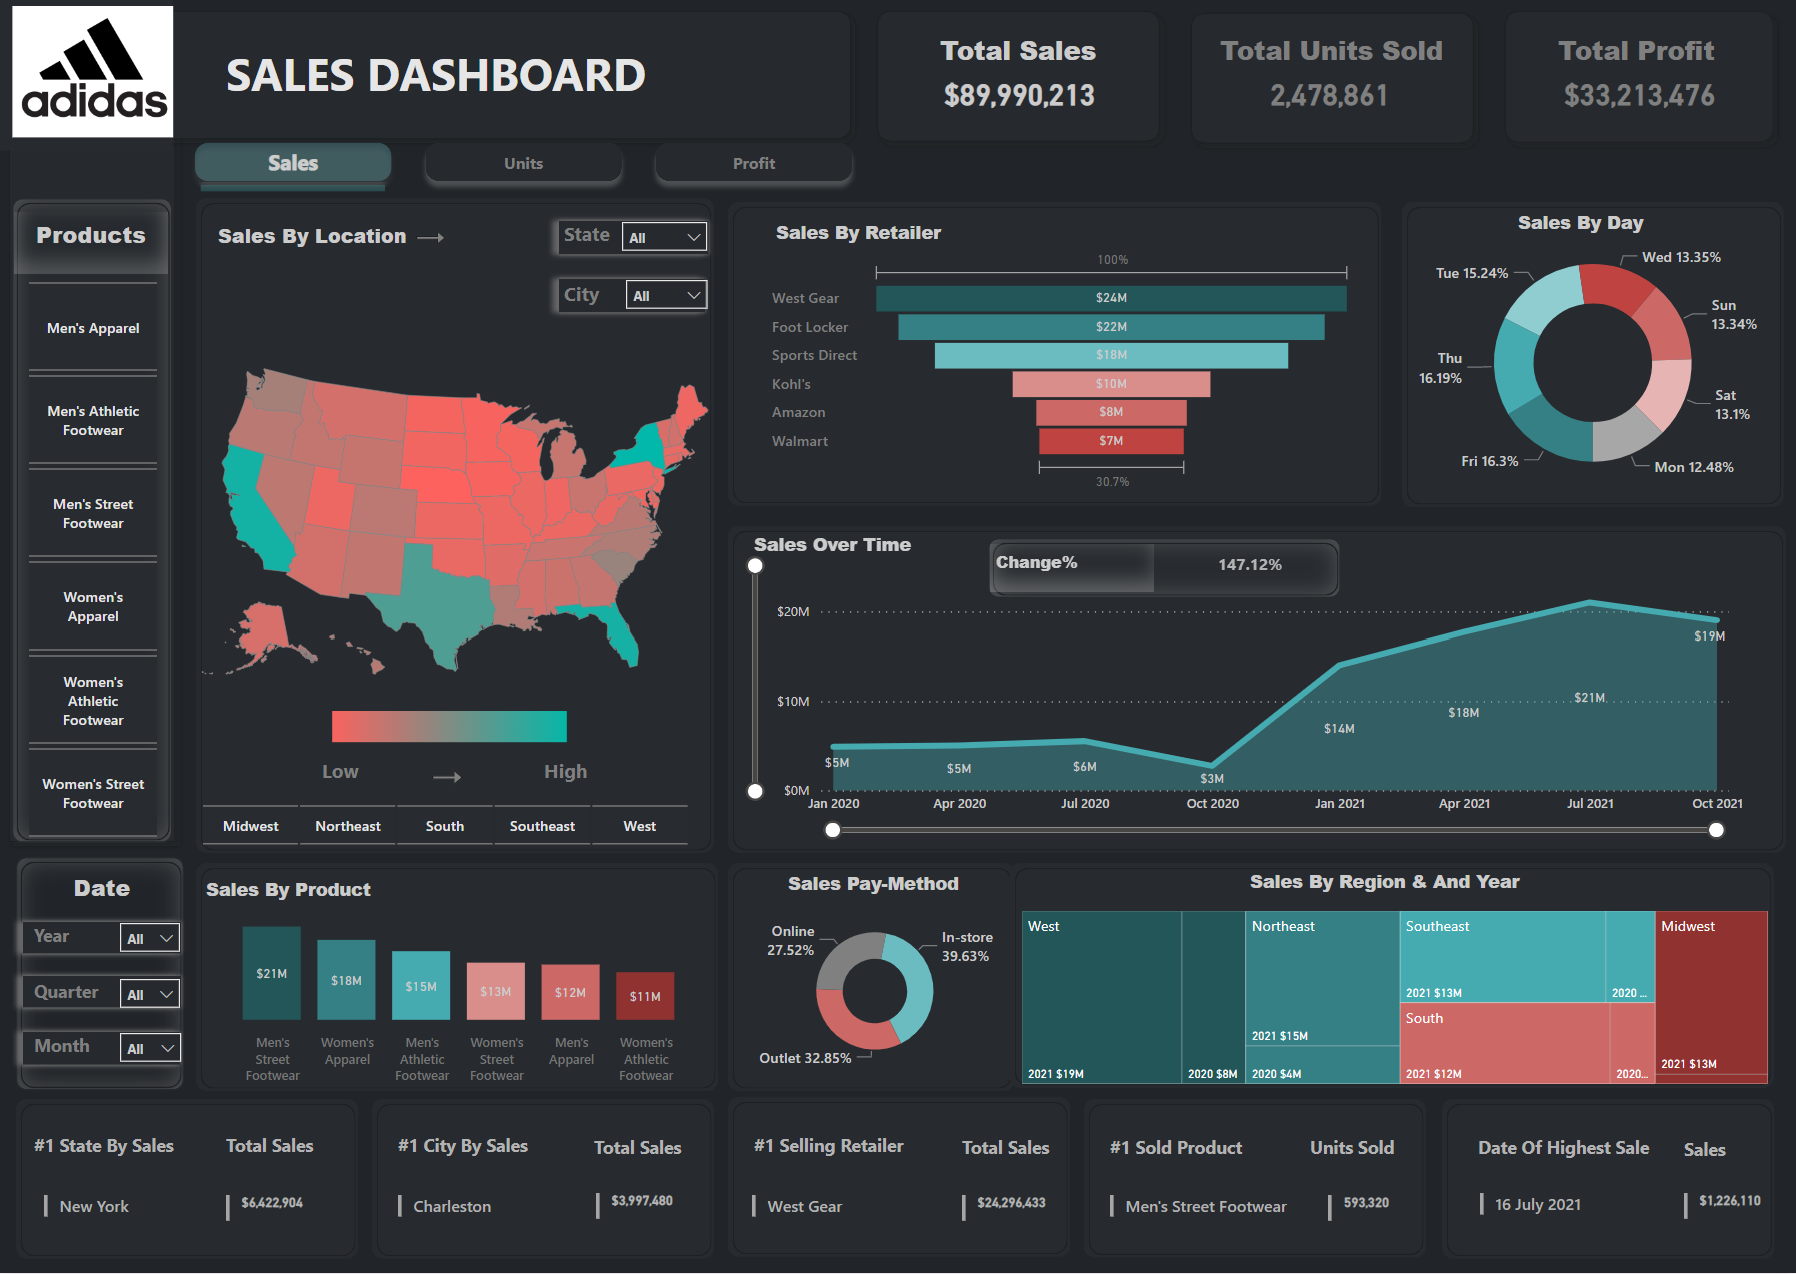

This screenshot's page, from the dashboard's own definition file:
{"tool":"powerbi","page":{"name":"Sales","canvas":[1500,1060],"ordinal":0},"visuals":[{"type":"shape","box":[0,0,157,710],"z":0},{"type":"shape","box":[608.3,718.3,238.3,190],"z":1000},{"type":"shape","box":[905.7,915.5,285,132],"z":2000},{"type":"shape","box":[1202.9,915.7,277.1,132.9],"z":3000},{"type":"shape","box":[608.6,913.6,285,132.9],"z":4000},{"type":"shape","box":[311.4,915,285,132.9],"z":5000},{"type":"shape","box":[14.3,915,285,132.9],"z":6000},{"type":"shape","box":[14.4,713.3,140,194.4],"z":7000},{"type":"shape","box":[165,165,431.7,545],"z":8000},{"type":"shapeMap","fields":{"Category":["Data_1.State"],"Value":["Data_1.Sales"]},"box":[141.7,196.7,478.3,475],"z":9000},{"type":"shape","box":[0,0,719.8,125],"z":10000},{"type":"shape","box":[608.6,168.6,544.3,252.9],"z":11000},{"type":"shape","box":[608.6,438.6,881.4,271.4],"z":12000},{"type":"stackedAreaChart","fields":{"Category":["Data_1.Invoice Date.Variation.Date Hierarchy.Year","Data_1.Invoice Date.Variation.Date Hierarchy.Quarter"],"Y":["Data_1.Sales"]},"box":[620,458.3,838.3,243.3],"z":13000},{"type":"multiRowCard","fields":{"Values":["Sum(Data_1.Units Sold)"]},"box":[1102.9,990,78.6,34.3],"z":14000},{"type":"multiRowCard","fields":{"Values":["Data_1.Product"]},"box":[921.4,990,170,45.7],"z":15000},{"type":"textbox","box":[921.4,940,145.7,35.7],"z":16000},{"type":"textbox","box":[1088.6,940,130,35.7],"z":17000},{"type":"textbox","box":[624.3,938.6,164.3,34.3],"z":18000},{"type":"textbox","box":[798.6,940,118.6,34.3],"z":19000},{"type":"multiRowCard","fields":{"Values":["Data_1.Retailer"]},"box":[623.6,990.7,165.5,36.4],"z":20000},{"type":"multiRowCard","fields":{"Values":["Data_1.Sales"]},"box":[798.6,990,100,34.3],"z":21000},{"type":"textbox","box":[624.3,438.6,274.3,34.3],"z":22000},{"type":"multiRowCard","fields":{"Values":["Data_1.Sales"]},"box":[185.7,990,100,34.3],"z":23000},{"type":"multiRowCard","fields":{"Values":["Data_1.State"]},"box":[32.9,990,188.6,32.9],"z":24000},{"type":"textbox","box":[25.7,938.6,188.6,37.1],"z":25000},{"type":"textbox","box":[185.7,938.6,114.3,35.7],"z":26000},{"type":"shape","box":[0,0,145.3,125.3],"z":27000},{"type":"textbox","box":[185.5,30.2,485.9,64.5],"z":28000},{"type":"image","box":[0,0,157.3,119.3],"z":29000},{"type":"textbox","box":[177.6,180.3,193.4,40.8],"z":30000},{"type":"funnel","fields":{"Category":["Data_1.Retailer"],"Y":["Data_1.Sales"]},"box":[640,204,494,210],"z":31000},{"type":"shape","box":[723.8,0,254,127],"z":32000},{"type":"shape","box":[984.9,2,254,127],"z":33000},{"type":"shape","box":[1246,0,242,128],"z":34000},{"type":"multiRowCard","fields":{"Values":["Data_1.Sales"]},"box":[784,60,149,50],"z":35000},{"type":"textbox","box":[780,22,164,50],"z":36000},{"type":"multiRowCard","fields":{"Values":["Data_1.Profit"]},"box":[1300,60,161.4,50],"z":37000},{"type":"textbox","box":[1295.7,21.4,191.4,50],"z":38000},{"type":"multiRowCard","fields":{"Values":["Data_1.Quantity"]},"box":[1055.7,60,125.7,50],"z":39000},{"type":"textbox","box":[1012.9,21.4,210,50],"z":40000},{"type":"textbox","box":[642.9,178.6,274.3,32.9],"z":41000},{"type":"slicer","fields":{"Values":["Data_1.Region"]},"box":[145,663.3,453.3,46.7],"z":42000},{"type":"textbox","box":[328.3,938.9,163.6,34.5],"z":43000},{"type":"textbox","box":[492.1,939.6,102,34],"z":44000},{"type":"multiRowCard","fields":{"Values":["Data_1.City"]},"box":[328.6,990,164.3,37.1],"z":45000},{"type":"multiRowCard","fields":{"Values":["Data_1.Sales"]},"box":[492.9,988.6,100,34.3],"z":46000},{"type":"shape","box":[1170,168,318,254],"z":47000},{"type":"donutChart","fields":{"Category":["Data_1.Day"],"Y":["Data_1.Sales"]},"box":[1170,184,318,238],"z":48000},{"type":"textbox","box":[1262,170,136,40],"z":49000},{"type":"shape","box":[458.5,174.8,142.9,45.9],"z":50000},{"type":"textbox","box":[467.3,178.4,155.9,42.4],"z":51000},{"type":"slicer","title":"Select City","fields":{"Values":["Data_1.State"]},"box":[510.3,174.8,91.2,46.5],"z":52000},{"type":"shape","box":[361.7,639.3,26,14],"z":53000},{"type":"image","box":[255.7,587.3,242,36],"z":54000},{"type":"shape","box":[458,224,140,46],"z":55000},{"type":"shape","box":[348.7,192.1,25,13.2],"z":56000},{"type":"textbox","box":[467,228,156,42],"z":57000},{"type":"textbox","box":[449.7,625,60,43.3],"z":58000},{"type":"textbox","box":[264.8,625,51.4,42.9],"z":59000},{"type":"slicer","title":"Select City","fields":{"Values":["Data_1.City"]},"box":[513,224,88,46],"z":60000},{"type":"shape","box":[843.8,718.8,636.2,187.5],"z":61000},{"type":"treemap","fields":{"Group":["Data_1.Region"],"Values":["Data_1.Sales"],"Details":["Data_1.Year"]},"box":[848.8,753.8,631.2,153.8],"z":62000},{"type":"textbox","box":[1038,718,400,34],"z":63000},{"type":"shape","box":[165,718.3,435,190],"z":64000},{"type":"donutChart","fields":{"Category":["Data_1.Sales Method"],"Y":["Data_1.Sales"]},"box":[620,755,221.7,140],"z":65000},{"type":"textbox","box":[654,720,172,34],"z":66000},{"type":"shape","box":[11.1,757.8,150,44.4],"z":67000},{"type":"textbox","box":[24.4,762.8,54.4,36.7],"z":68000},{"type":"shape","box":[12.2,850,148.9,45.6],"z":69000},{"type":"textbox","box":[25.6,854.6,72.5,42.5],"z":70000},{"type":"slicer","title":"Select City","fields":{"Values":["Data_1.Month"]},"box":[91.1,850,71.1,45.6],"z":71000},{"type":"shape","box":[11.1,803.9,150,44.4],"z":72000},{"type":"textbox","box":[24.4,809.4,73.3,41.7],"z":73000},{"type":"slicer","title":"Select City","fields":{"Values":["Data_1.Month"]},"box":[91.1,804.4,70,44.4],"z":74000},{"type":"slicer","title":"Select City","fields":{"Values":["Data_1.Year"]},"box":[91.1,757.8,70,44.4],"z":75000},{"type":"textbox","box":[17.8,720,136.7,37.8],"z":76000},{"type":"multiRowCard","fields":{"Values":["Data_1.Sales"]},"box":[1400,988,80,36],"z":77000},{"type":"multiRowCard","fields":{"Values":["Data_1.Invoice Date"]},"box":[1230,988,170,48],"z":78000},{"type":"textbox","box":[1228,940,164,40],"z":79000},{"type":"textbox","box":[1400,942,94,38],"z":80000},{"type":"clusteredColumnChart","fields":{"Category":["Data_1.Product"],"Y":["Data_1.Sales"]},"box":[165,735,430,175],"z":81000},{"type":"textbox","box":[168.3,725,173.3,33.3],"z":82000},{"type":"pageNavigator","box":[155,110,566.7,50],"z":83000},{"type":"actionButton","box":[353.3,115,170,40],"z":84000},{"type":"actionButton","box":[550,115,170,40],"z":85000},{"type":"actionButton","box":[160,145,171.7,23.3],"z":86000},{"type":"shape","box":[11.7,165,133.3,536.7],"z":87000},{"type":"slicer","fields":{"Values":["Data_1.Product"]},"box":[0,228.3,156.7,475],"z":88000},{"type":"textbox","box":[13.3,176.7,128.3,51.7],"z":89000},{"type":"shape","box":[825,447.5,293.8,50],"z":89500},{"type":"card","fields":{"Values":["Changes.Change%"]},"box":[972.5,451.2,140,41.2],"z":90000},{"type":"textbox","box":[826,453,137,40],"z":92000}]}

Visuals, with their boxes in screenshot pixels (x1, y1, x2, y2), scaled from the page's 1500x1060 canvas onto the 1796x1274 screenshot:
shape: left=0, top=0, right=188, bottom=853
shape: left=728, top=863, right=1014, bottom=1092
shape: left=1084, top=1100, right=1426, bottom=1259
shape: left=1440, top=1101, right=1772, bottom=1260
shape: left=729, top=1098, right=1070, bottom=1258
shape: left=373, top=1100, right=714, bottom=1259
shape: left=17, top=1100, right=358, bottom=1259
shape: left=17, top=857, right=185, bottom=1091
shape: left=198, top=198, right=714, bottom=853
shapeMap - Data_1.State x Data_1.Sales: left=170, top=236, right=742, bottom=807
shape: left=0, top=0, right=862, bottom=150
shape: left=729, top=203, right=1380, bottom=507
shape: left=729, top=527, right=1784, bottom=853
stackedAreaChart - Data_1.Invoice Date.Variation.Date Hierarchy.Year x Data_1.Invoice Date.Variation.Date Hierarchy.Quarter: left=742, top=551, right=1746, bottom=843
multiRowCard - Sum(Data_1.Units Sold): left=1321, top=1190, right=1415, bottom=1231
multiRowCard - Data_1.Product: left=1103, top=1190, right=1307, bottom=1245
textbox: left=1103, top=1130, right=1278, bottom=1173
textbox: left=1303, top=1130, right=1459, bottom=1173
textbox: left=747, top=1128, right=944, bottom=1169
textbox: left=956, top=1130, right=1098, bottom=1171
multiRowCard - Data_1.Retailer: left=747, top=1191, right=945, bottom=1234
multiRowCard - Data_1.Sales: left=956, top=1190, right=1076, bottom=1231
textbox: left=747, top=527, right=1076, bottom=568
multiRowCard - Data_1.Sales: left=222, top=1190, right=342, bottom=1231
multiRowCard - Data_1.State: left=39, top=1190, right=265, bottom=1229
textbox: left=31, top=1128, right=257, bottom=1173
textbox: left=222, top=1128, right=359, bottom=1171
shape: left=0, top=0, right=174, bottom=151
textbox: left=222, top=36, right=804, bottom=114
image: left=0, top=0, right=188, bottom=143
textbox: left=213, top=217, right=444, bottom=266
funnel - Data_1.Retailer x Data_1.Sales: left=766, top=245, right=1358, bottom=498
shape: left=867, top=0, right=1171, bottom=153
shape: left=1179, top=2, right=1483, bottom=155
shape: left=1492, top=0, right=1782, bottom=154
multiRowCard - Data_1.Sales: left=939, top=72, right=1117, bottom=132
textbox: left=934, top=26, right=1130, bottom=87
multiRowCard - Data_1.Profit: left=1557, top=72, right=1750, bottom=132
textbox: left=1551, top=26, right=1781, bottom=86
multiRowCard - Data_1.Quantity: left=1264, top=72, right=1415, bottom=132
textbox: left=1213, top=26, right=1464, bottom=86
textbox: left=770, top=215, right=1098, bottom=254
slicer - Data_1.Region: left=174, top=797, right=716, bottom=853
textbox: left=393, top=1128, right=589, bottom=1170
textbox: left=589, top=1129, right=711, bottom=1170
multiRowCard - Data_1.City: left=393, top=1190, right=590, bottom=1234
multiRowCard - Data_1.Sales: left=590, top=1188, right=710, bottom=1229
shape: left=1401, top=202, right=1782, bottom=507
donutChart - Data_1.Day x Data_1.Sales: left=1401, top=221, right=1782, bottom=507
textbox: left=1511, top=204, right=1674, bottom=252
shape: left=549, top=210, right=720, bottom=265
textbox: left=560, top=214, right=746, bottom=265
"Select City" slicer: left=611, top=210, right=720, bottom=266
shape: left=433, top=768, right=464, bottom=785
image: left=306, top=706, right=596, bottom=749
shape: left=548, top=269, right=716, bottom=325
shape: left=418, top=231, right=447, bottom=247
textbox: left=559, top=274, right=746, bottom=325
textbox: left=538, top=751, right=610, bottom=803
textbox: left=317, top=751, right=379, bottom=803
"Select City" slicer: left=614, top=269, right=720, bottom=325
shape: left=1010, top=864, right=1772, bottom=1089
treemap - Data_1.Region x Data_1.Sales: left=1016, top=906, right=1772, bottom=1091
textbox: left=1243, top=863, right=1722, bottom=904
shape: left=198, top=863, right=718, bottom=1092
donutChart - Data_1.Sales Method x Data_1.Sales: left=742, top=907, right=1008, bottom=1076
textbox: left=783, top=865, right=989, bottom=906
shape: left=13, top=911, right=193, bottom=964
textbox: left=29, top=917, right=94, bottom=961
shape: left=15, top=1022, right=193, bottom=1076
textbox: left=31, top=1027, right=117, bottom=1078
"Select City" slicer: left=109, top=1022, right=194, bottom=1076
shape: left=13, top=966, right=193, bottom=1020
textbox: left=29, top=973, right=117, bottom=1023
"Select City" slicer: left=109, top=967, right=193, bottom=1020
"Select City" slicer: left=109, top=911, right=193, bottom=964
textbox: left=21, top=865, right=185, bottom=911
multiRowCard - Data_1.Sales: left=1676, top=1187, right=1772, bottom=1231
multiRowCard - Data_1.Invoice Date: left=1473, top=1187, right=1676, bottom=1245
textbox: left=1470, top=1130, right=1667, bottom=1178
textbox: left=1676, top=1132, right=1789, bottom=1178
clusteredColumnChart - Data_1.Product x Data_1.Sales: left=198, top=883, right=712, bottom=1094
textbox: left=202, top=871, right=409, bottom=911
pageNavigator: left=186, top=132, right=864, bottom=192
actionButton: left=423, top=138, right=627, bottom=186
actionButton: left=659, top=138, right=862, bottom=186
actionButton: left=192, top=174, right=397, bottom=202
shape: left=14, top=198, right=174, bottom=843
slicer - Data_1.Product: left=0, top=274, right=188, bottom=845
textbox: left=16, top=212, right=170, bottom=275
shape: left=988, top=538, right=1340, bottom=598
card - Changes.Change%: left=1164, top=542, right=1332, bottom=592
textbox: left=989, top=544, right=1153, bottom=593
